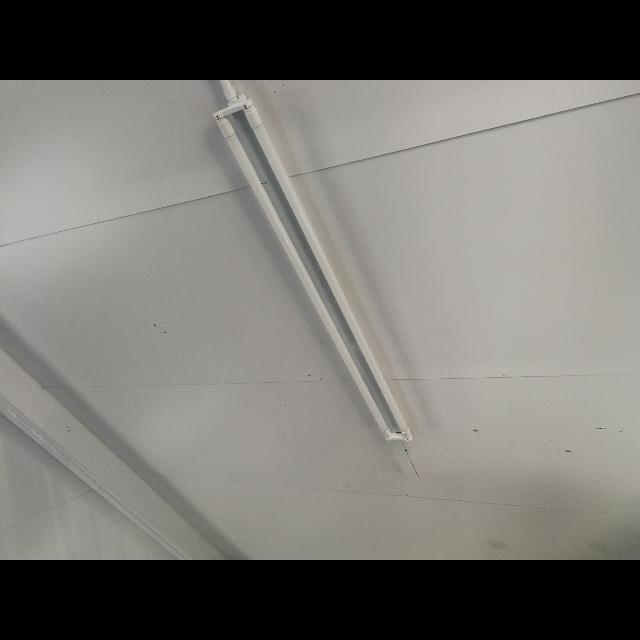Straight-Tube-Fluorescent-Lamp: (204, 94, 418, 446)
